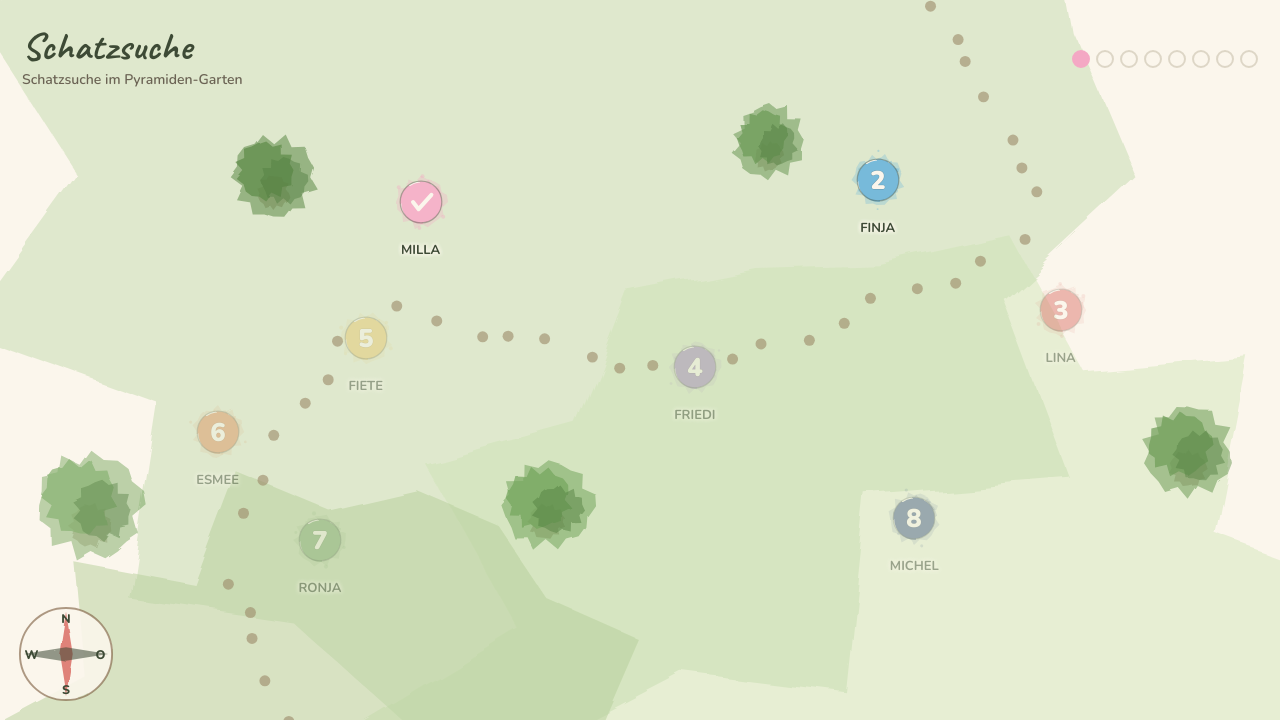
Test: MapScreen › station 2 success view renders the direction arrow + word with pulse animation
Click the button with test id "station-marker-2": [878, 180] box [838,140,918,220]
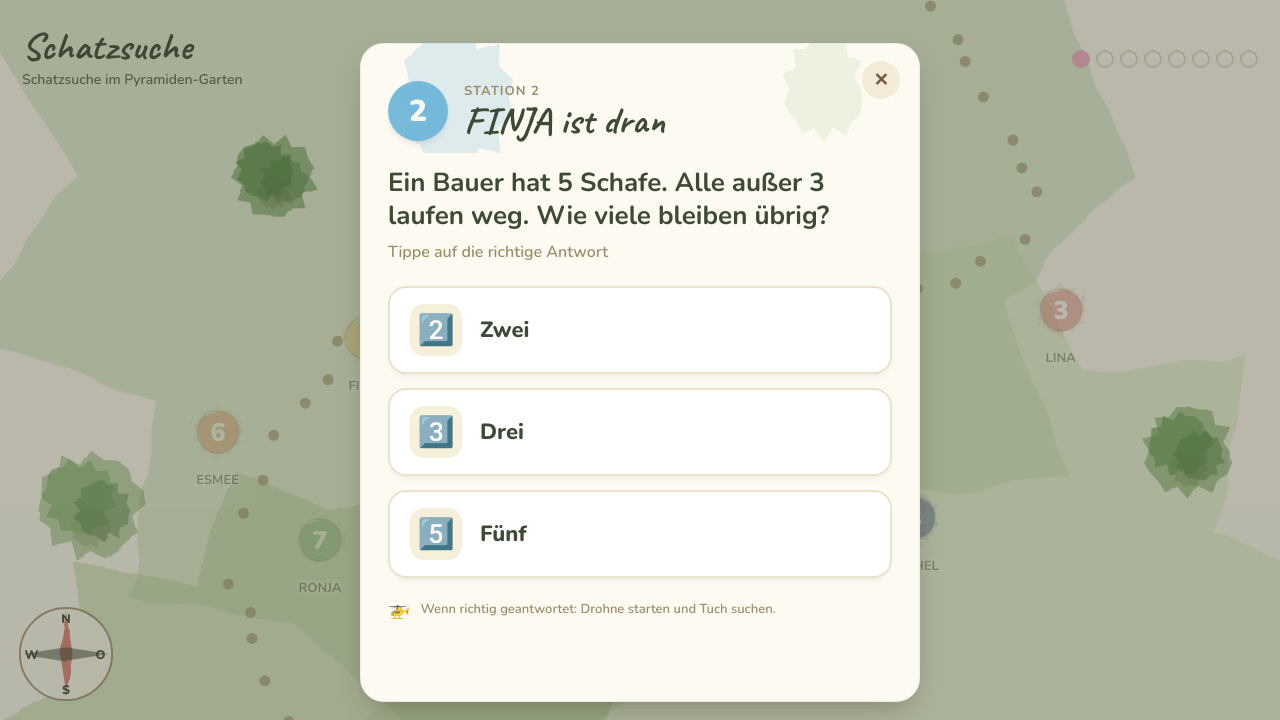
Click the button "3️⃣ Drei": [436, 432] box [388,388,892,476]
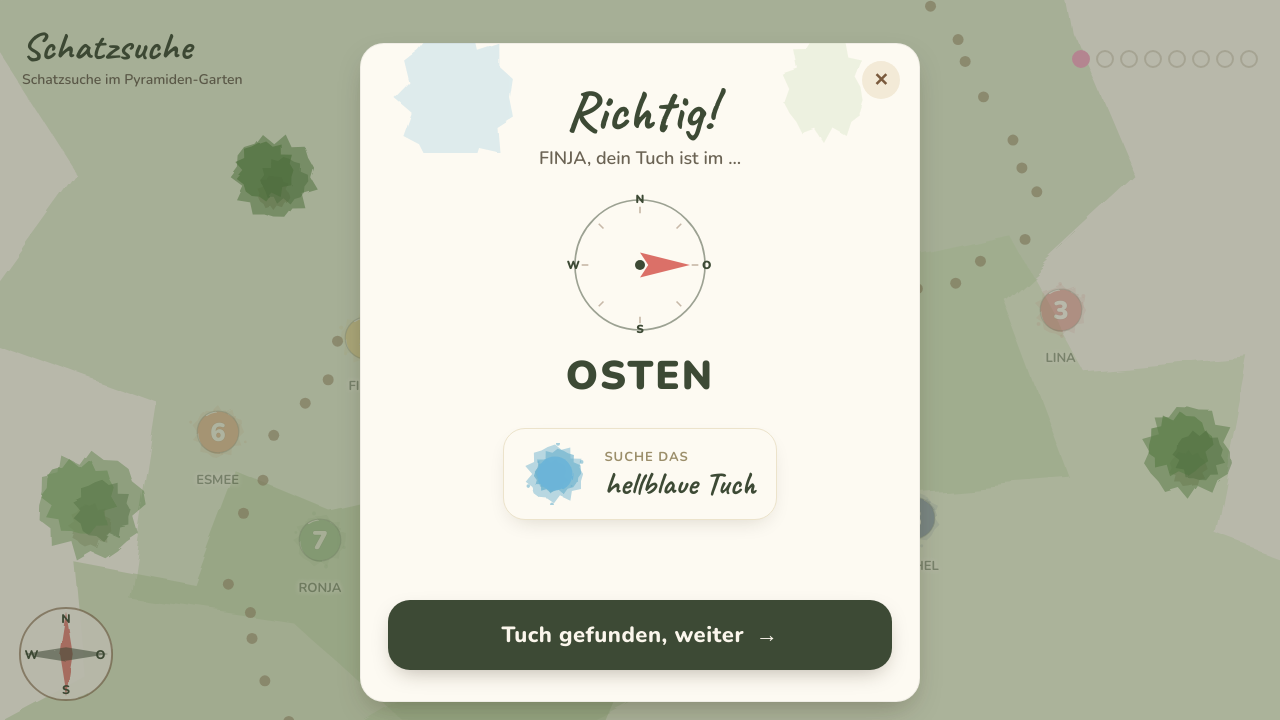
Check: the element with test id "direction-label" shows "OSTEN", box [566,349,714,403]
